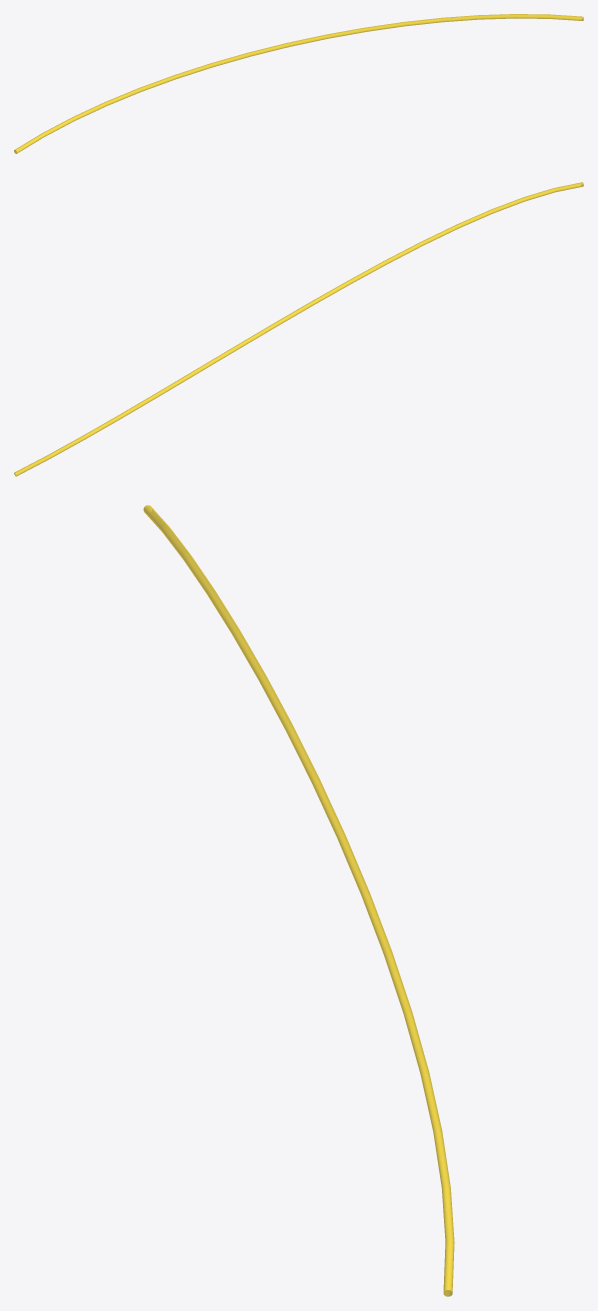
Rendered from Event_100608114_track_98.fbx.
3 views of the same model, one above another, from view 1: azimuth 30°, elevation 25°; view 2: azimuth 210°, elevation 25°; view 3: azimuth 270°, elevation 25° (orthographic). The views are drawn at different scales.
Visible parts, largest first — view 1: Model; view 2: Model; view 3: Model.
Part boxes in pixels (x1=…): Model: x1=14, y1=14, x2=583, y2=153; Model: x1=14, y1=182, x2=583, y2=476; Model: x1=143, y1=505, x2=454, y2=1296.
Bounding box in the file's own units: 6.53 × 0.9021 × 1.37.
